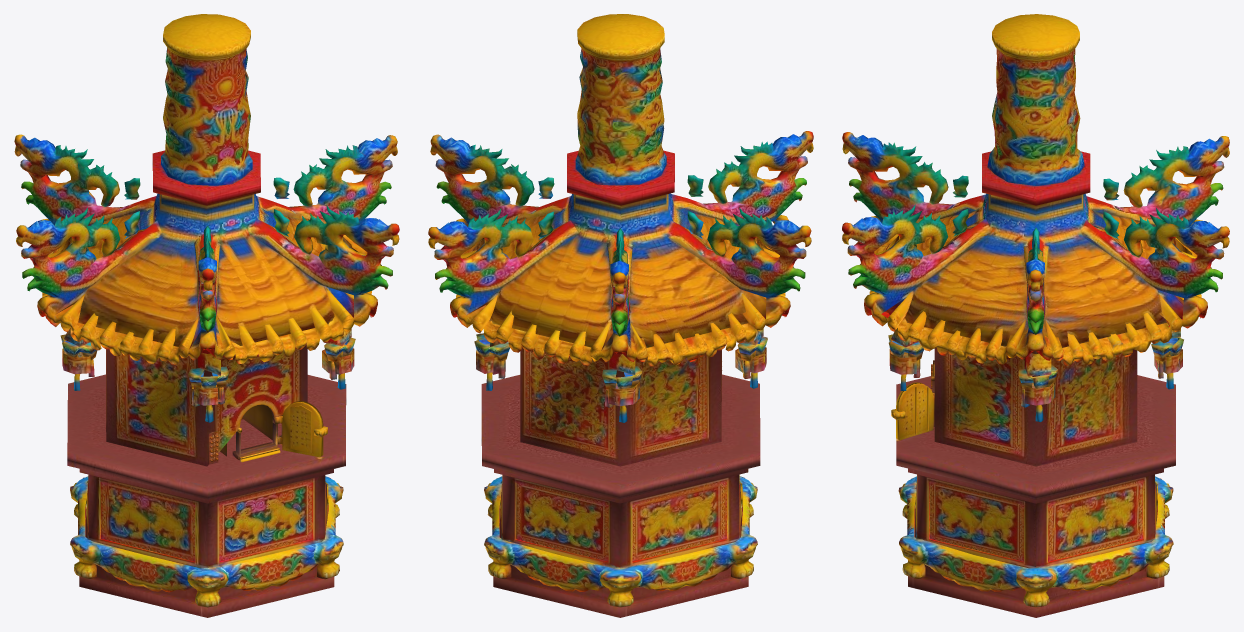
Rendered from jinlu.glb.
3 renders of one model, left to right at view 1: azimuth 30°, elevation 25°; view 2: azimuth 150°, elevation 25°; view 3: azimuth 270°, elevation 25°, orthographic.
Visible parts, largest first — view 1: tripo_node_3b2bb242-869e-4f5e-b5fd-0a25fa43d30a; view 2: tripo_node_3b2bb242-869e-4f5e-b5fd-0a25fa43d30a; view 3: tripo_node_3b2bb242-869e-4f5e-b5fd-0a25fa43d30a.
Boxes of the visible parts, x1,y1,x2,y2 form: tripo_node_3b2bb242-869e-4f5e-b5fd-0a25fa43d30a: (14,14,399,617); tripo_node_3b2bb242-869e-4f5e-b5fd-0a25fa43d30a: (428,14,813,617); tripo_node_3b2bb242-869e-4f5e-b5fd-0a25fa43d30a: (842,14,1229,617).
Size of the model in its own units: 0.7495 by 0.9995 by 0.6636.
Materials: 1 (1 with a texture image).
